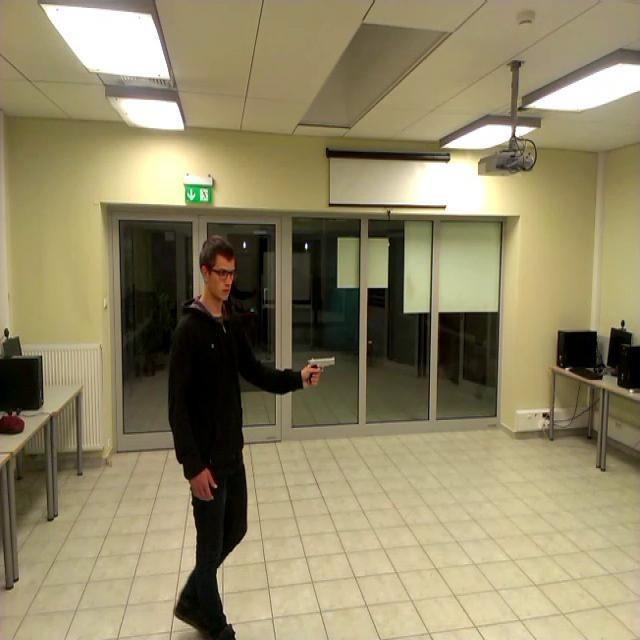Gun: (308, 355, 337, 383)
